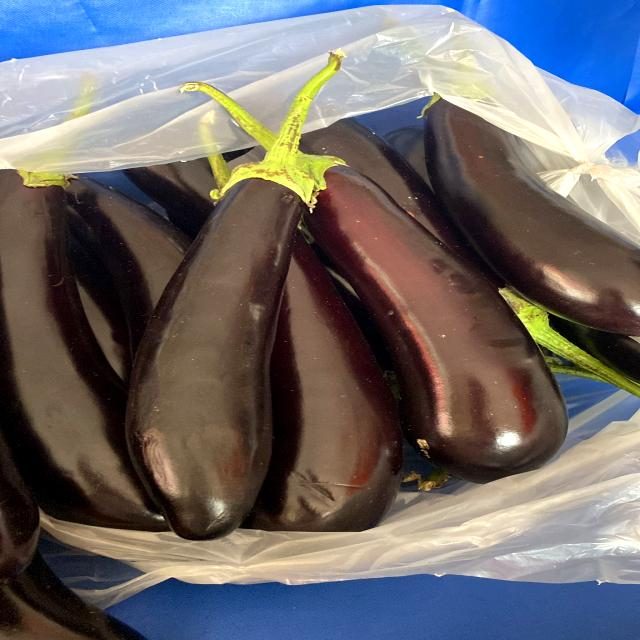eggplant: (191, 71, 578, 479), (120, 39, 347, 536)
